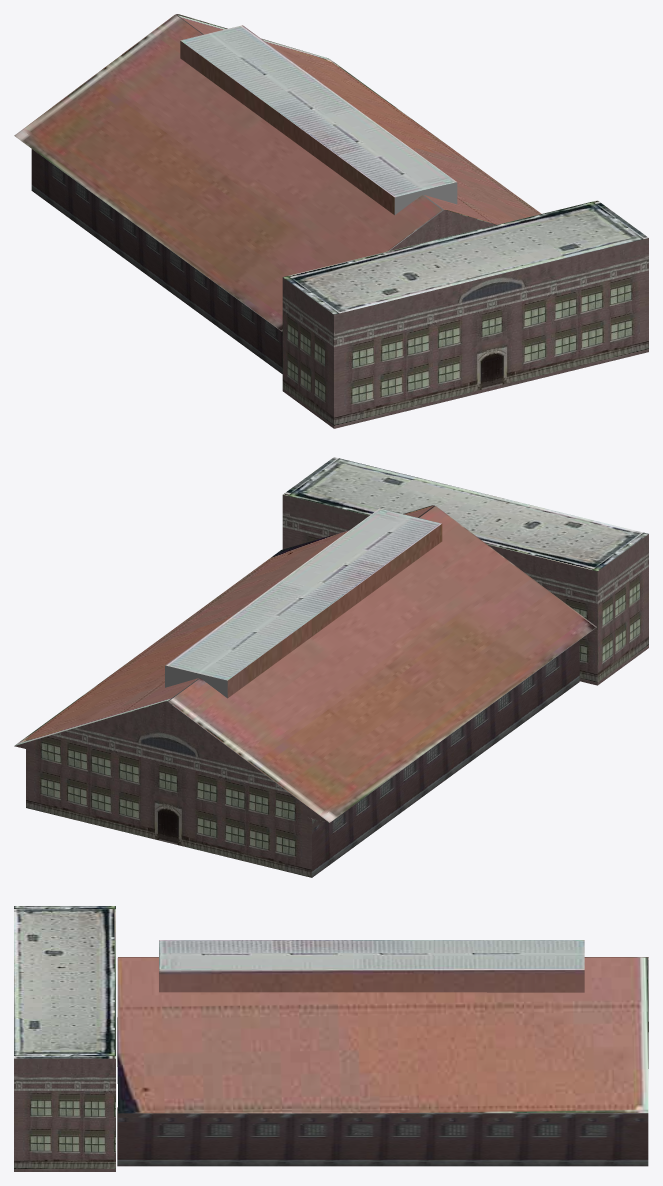
3 renders of one model, top to bottom at view 1: azimuth 30°, elevation 25°; view 2: azimuth 150°, elevation 25°; view 3: azimuth 270°, elevation 25°, orthographic.
Visible parts, largest first — view 1: Armory1, Group1, leftwall1, Component_2_1, roofwall2; view 2: Armory1, roofwall1, Group1, leftwall1, Component_2_1; view 3: Component_2_1, leftwall2, Group1, Armory1.
Part boxes in pixels (x1=…): Armory1: x1=14, y1=14, x2=457, y2=331; Group1: x1=282, y1=200, x2=648, y2=428; leftwall1: x1=31, y1=149, x2=282, y2=373; Component_2_1: x1=177, y1=14, x2=541, y2=224; roofwall2: x1=282, y1=210, x2=496, y2=331; Armory1: x1=14, y1=506, x2=596, y2=822; roofwall1: x1=14, y1=701, x2=328, y2=877; Group1: x1=282, y1=457, x2=648, y2=685; leftwall1: x1=312, y1=640, x2=579, y2=877; Component_2_1: x1=15, y1=505, x2=433, y2=745; Component_2_1: x1=117, y1=957, x2=648, y2=1113; leftwall2: x1=117, y1=1107, x2=648, y2=1166; Group1: x1=14, y1=906, x2=115, y2=1171; Armory1: x1=118, y1=940, x2=648, y2=1113.
Bounding box in the file's own units: 1991 × 875 × 3494.
